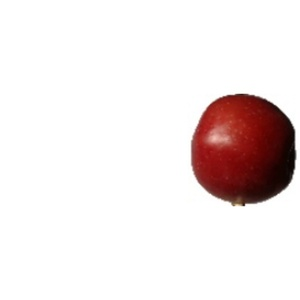maçã braeburn: (189, 92, 300, 202)
